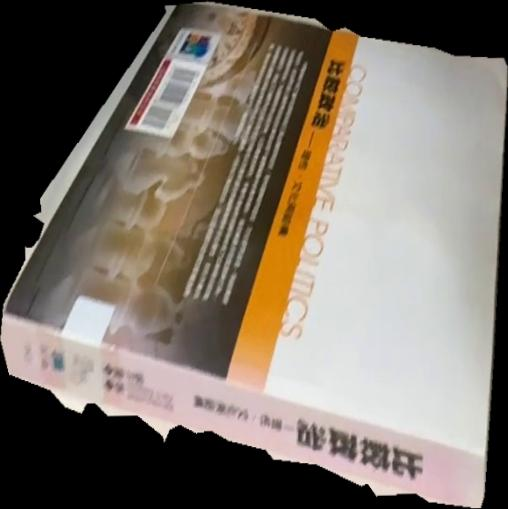flat: (1, 1, 508, 509)
